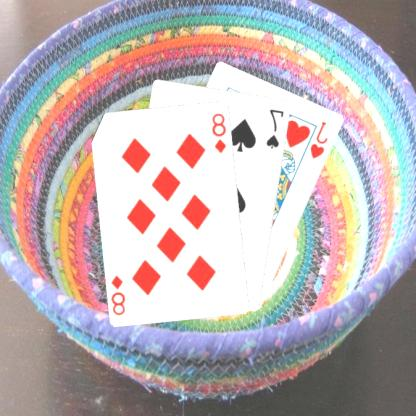7S: (266, 106, 288, 150)
8D: (211, 110, 230, 154), (110, 272, 129, 316)
JH: (310, 118, 332, 160)
